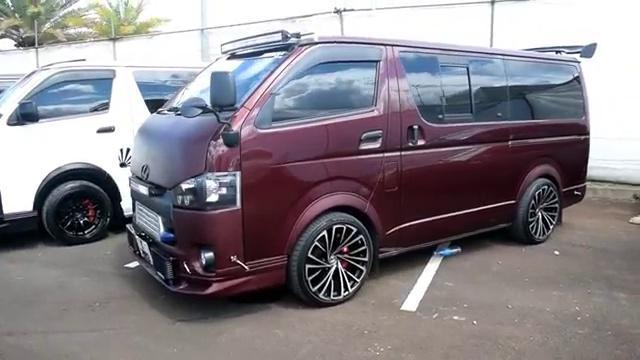van: (126, 19, 587, 296)
